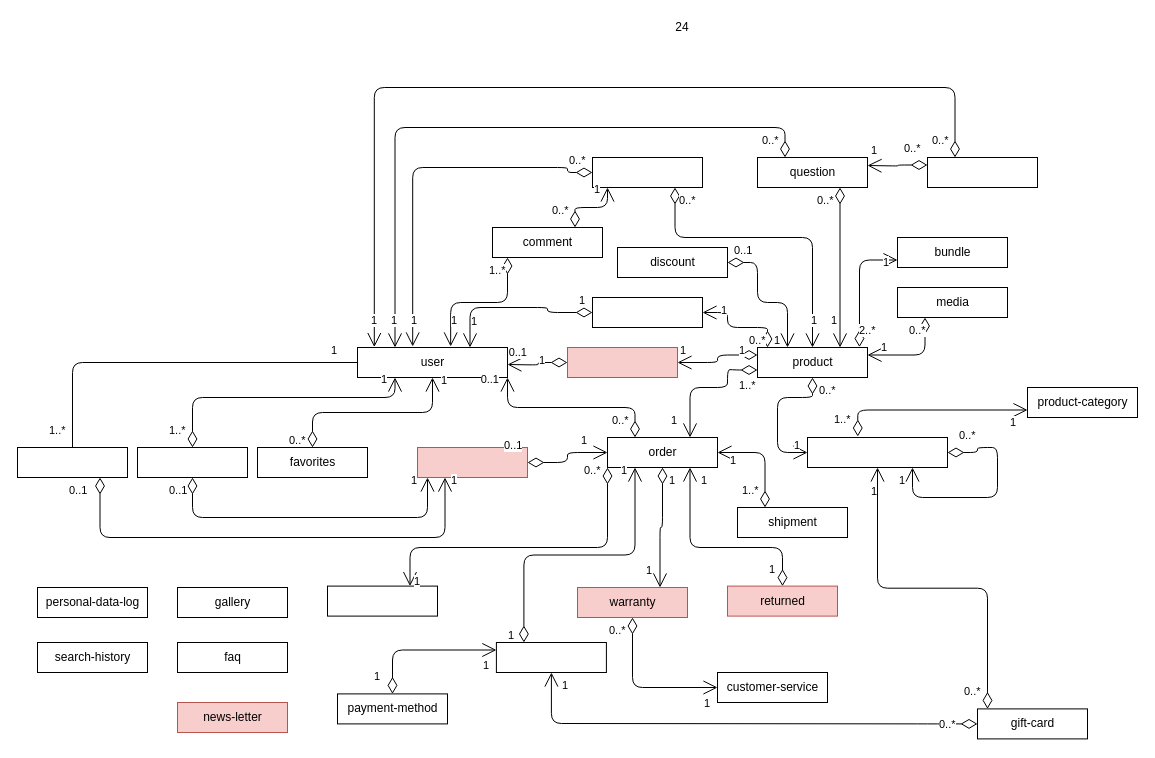
This 1155x758 diagram has some shape labels left out. Here are the shapes that lost their labels. From the top down, the centre of each, then its label:
At [647,172]: "review".
At [982,172]: "answer".
At [647,312]: "basket".
At [622,362]: "availability-alert".
At [72,462]: "address".
At [192,462]: "phone-number".
At [472,462]: "customer".
At [877,452]: "product-sub-category".
At [382,600]: "discount-code".
At [550,657]: "payment".
